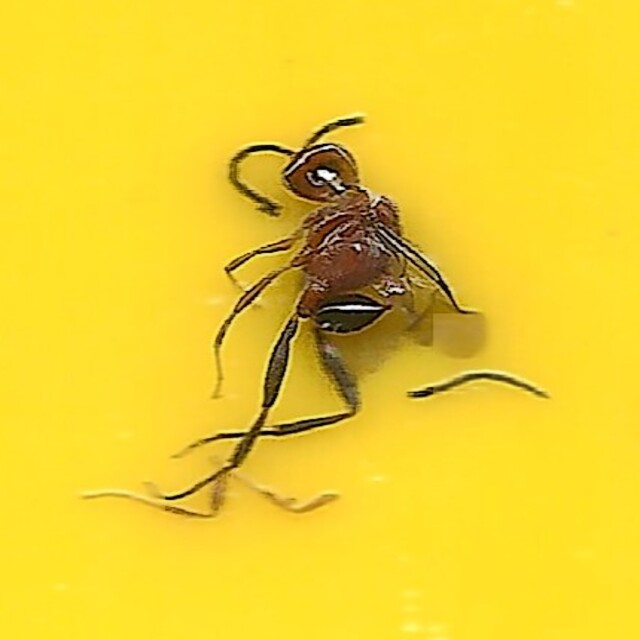Hymenoptera: (149, 119, 491, 521)
